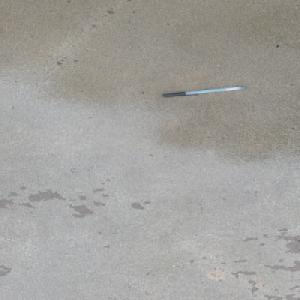Pen: (161, 85, 247, 98)
